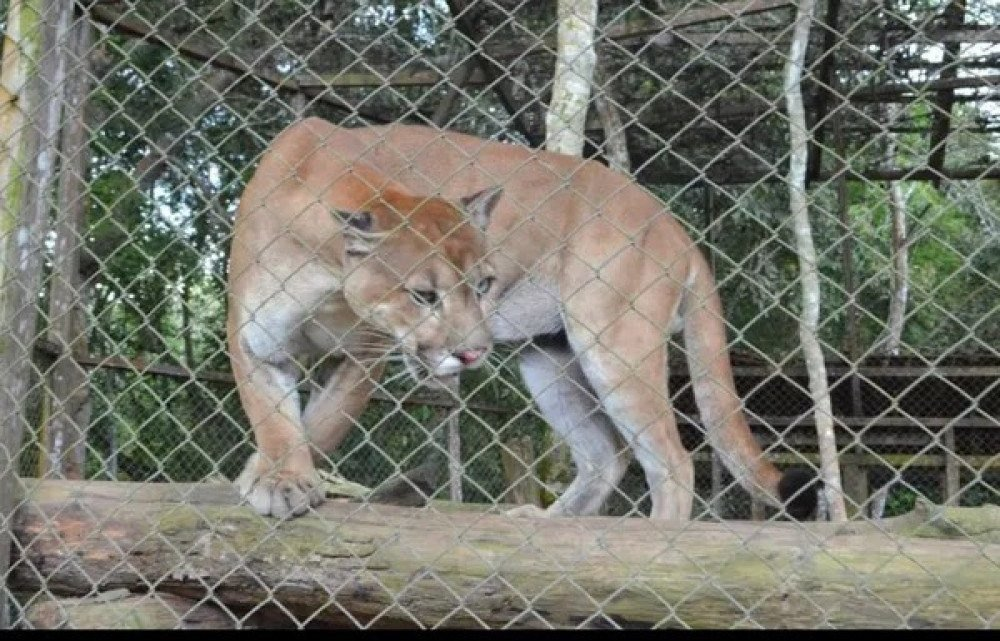OncaParda: (212, 106, 820, 536)
